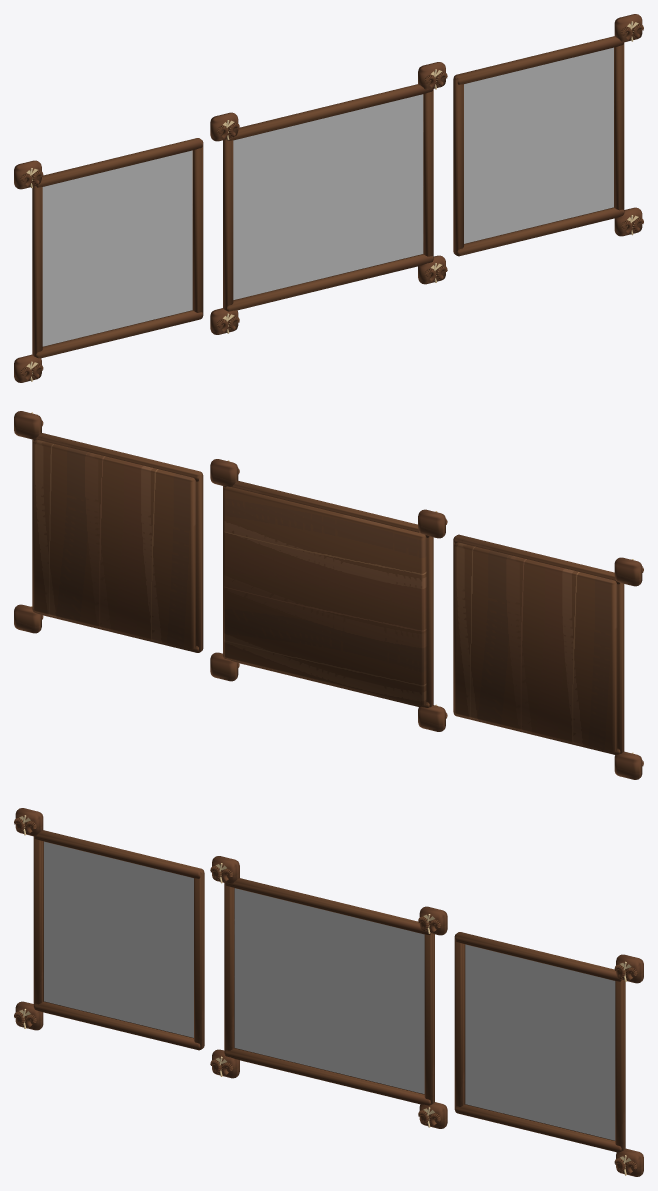
The model's file is CM_IL04_CounterCarving.fbx.
3 views of the same model, one above another, from view 1: azimuth 30°, elevation 25°; view 2: azimuth 150°, elevation 25°; view 3: azimuth 330°, elevation 25° (orthographic).
Parts seen in each view (by area): view 1: CM_IL04_CounterCarving; view 2: CM_IL04_CounterCarving; view 3: CM_IL04_CounterCarving.
Boxes of the visible parts, left/top/right/bottom form: CM_IL04_CounterCarving: left=14, top=14, right=643, bottom=382; CM_IL04_CounterCarving: left=14, top=411, right=643, bottom=779; CM_IL04_CounterCarving: left=14, top=808, right=643, bottom=1176.
Bounding box in the file's own units: 2.2 × 0.73 × 0.064.
